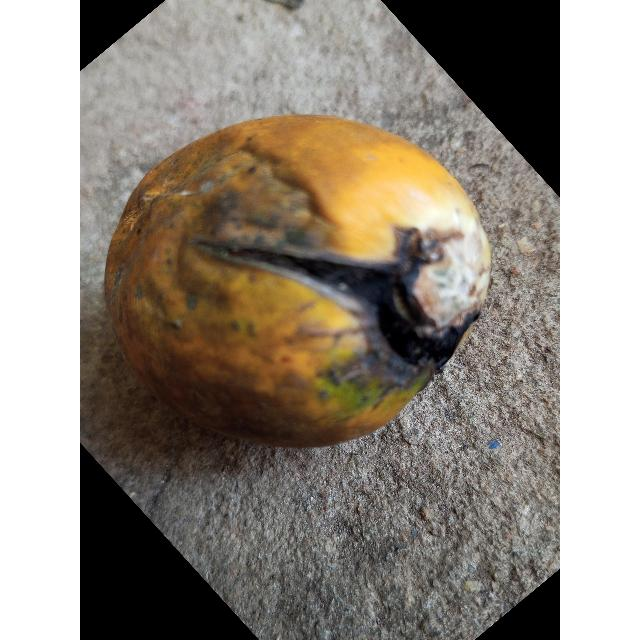damaged: (103, 114, 492, 451)
